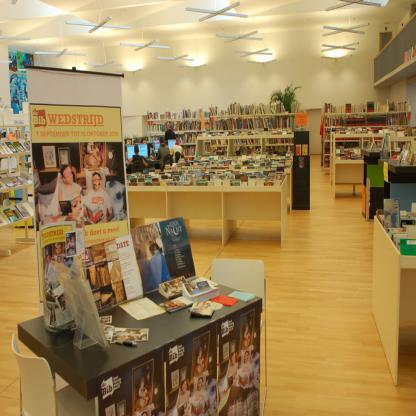book: (145, 97, 306, 154), (323, 100, 416, 169), (125, 150, 292, 184), (0, 127, 34, 224), (182, 279, 218, 304), (155, 276, 188, 300), (402, 46, 416, 63)
